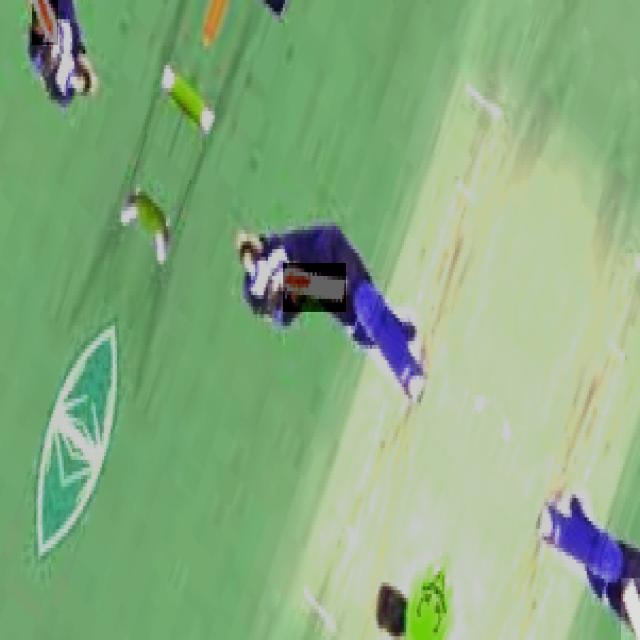bat: (271, 265, 364, 311)
toe: (334, 268, 353, 305)
